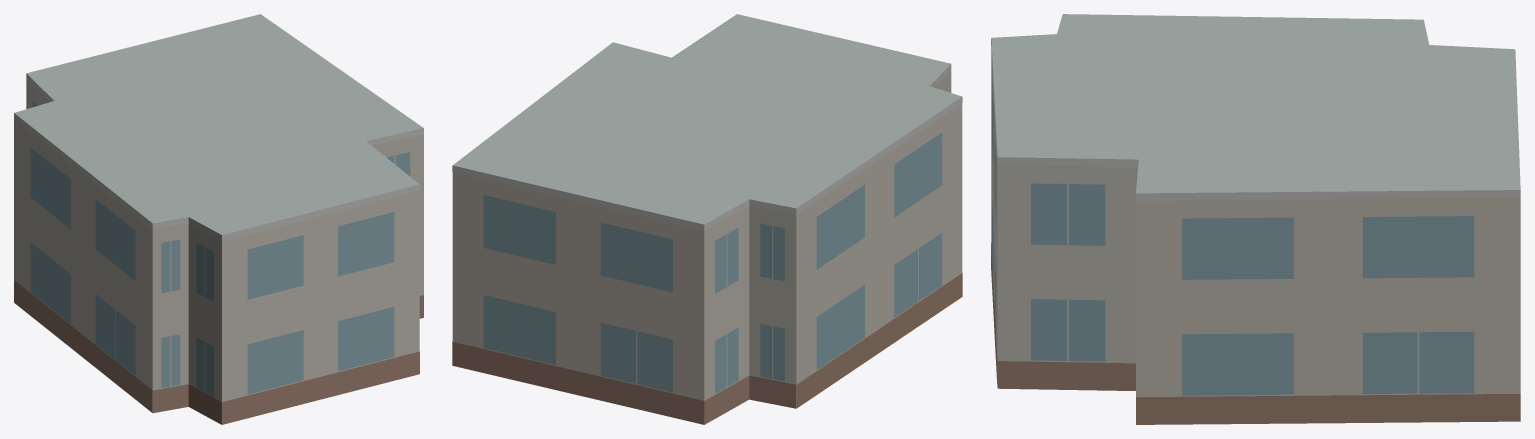
The model's file is survey-upis-32489160.glb.
The picture shows the model from 3 angles, left to right: view 1: azimuth 30°, elevation 25°; view 2: azimuth 150°, elevation 25°; view 3: azimuth 270°, elevation 25°; orthographic projection. The views are drawn at different scales.
Visible parts, largest first — view 1: survey-upis-32489160.tmp; view 2: survey-upis-32489160.tmp; view 3: survey-upis-32489160.tmp.
Boxes of the visible parts, x1,y1,x2,y2 form: survey-upis-32489160.tmp: (14, 14, 423, 424); survey-upis-32489160.tmp: (452, 14, 962, 424); survey-upis-32489160.tmp: (991, 14, 1520, 424).
Bounding box in the file's own units: 12.47 × 7.5 × 15.55.
